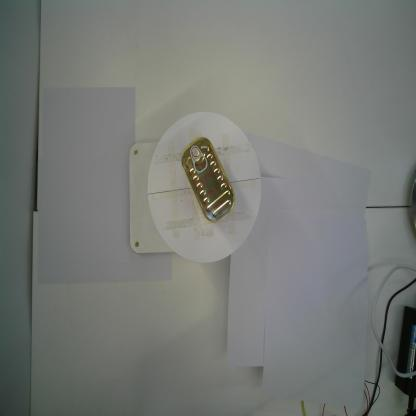Canned Food: (179, 135, 238, 224)
